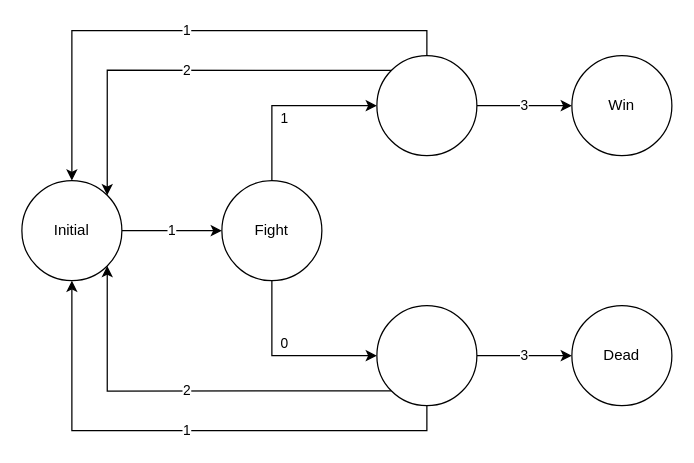
This 694x463 diagram has some shape labels left out. The centre of each missing label's shape, as x and y in pixels:
"Hit" goes at point (426, 105).
"Hurt" goes at point (426, 355).
